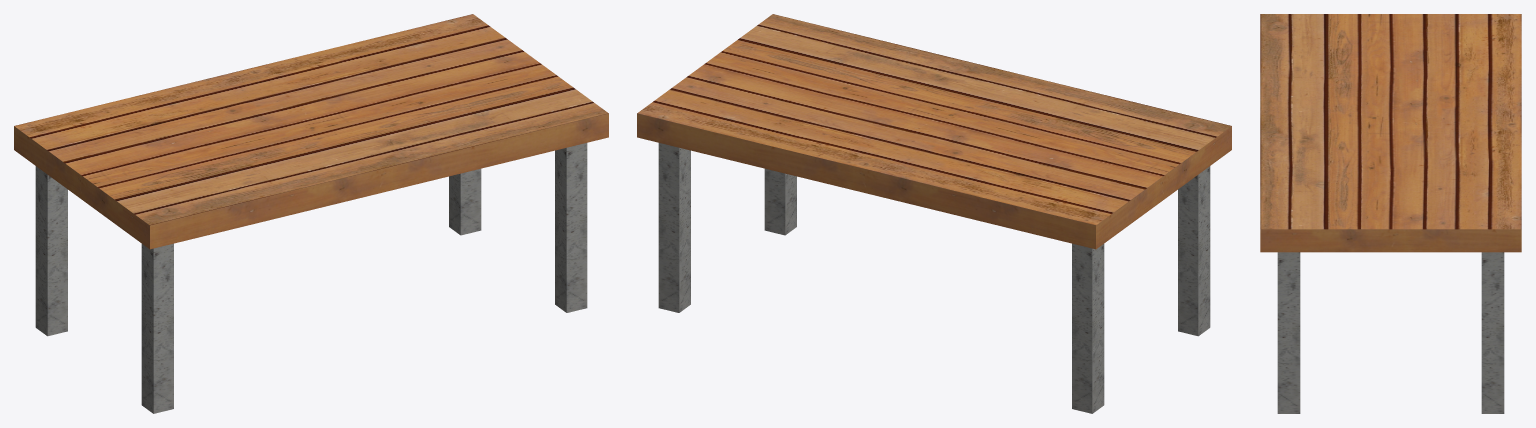
File: WoodTable.fbx
The picture shows the model from 3 angles, left to right: view 1: azimuth 30°, elevation 25°; view 2: azimuth 150°, elevation 25°; view 3: azimuth 270°, elevation 25°; orthographic projection. The views are drawn at different scales.
Parts seen in each view (by area): view 1: WoodTable; view 2: WoodTable; view 3: WoodTable.
Part boxes in pixels (x1,y1,x2,y2): WoodTable: (14,14,608,413); WoodTable: (637,14,1231,413); WoodTable: (1260,14,1521,413).
Size of the model in its own units: 2 by 0.825 by 1.03.
